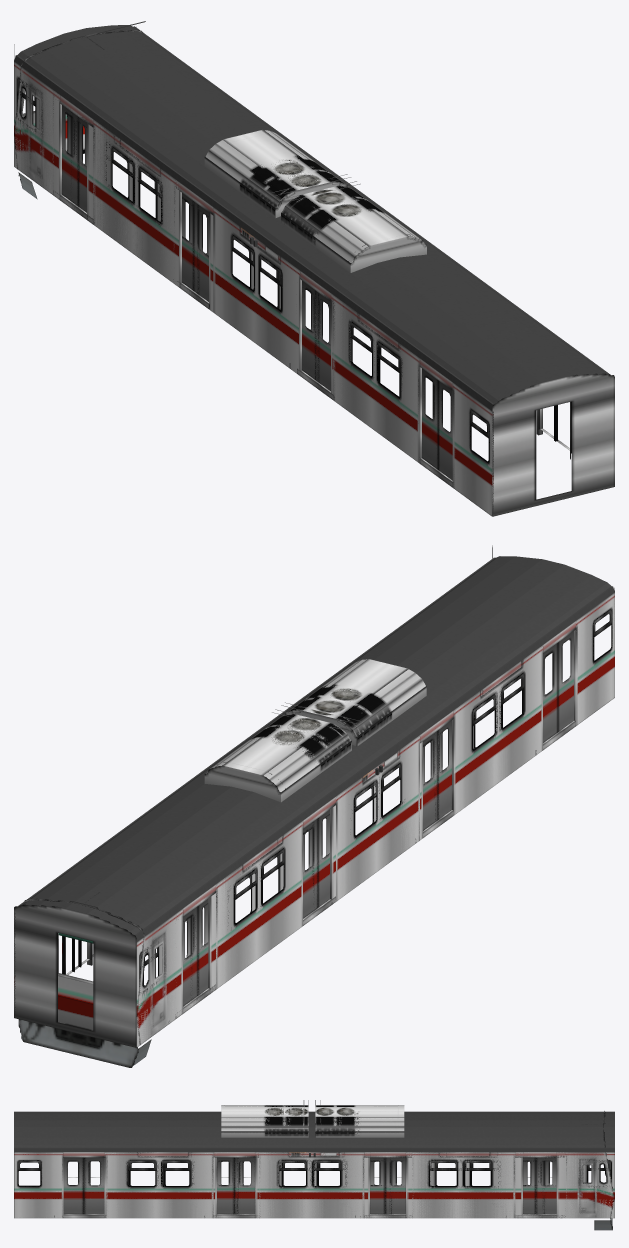
The picture shows the model from 3 angles, top to bottom: view 1: azimuth 30°, elevation 25°; view 2: azimuth 150°, elevation 25°; view 3: azimuth 270°, elevation 25°; orthographic projection. The views are drawn at different scales.
Visible parts, largest first — view 1: cab-shell-0, trailer-shell-5, cab-left-4, trailer-left-8, cab-left-3, trailer-left-9; view 2: cab-shell-0, trailer-shell-5, cab-left-4, cab-left-3, trailer-left-8, trailer-left-9; view 3: cab-shell-0, trailer-shell-5, cab-right-1, cab-right-2, trailer-right-7, trailer-right-6.
Boxes of the visible parts, x1,y1,x2,y2 form: cab-shell-0: (14, 21, 614, 516); trailer-shell-5: (14, 25, 608, 515); cab-left-4: (62, 105, 438, 469); trailer-left-8: (72, 113, 452, 480); cab-left-3: (78, 117, 452, 478); trailer-left-9: (62, 107, 437, 464); cab-shell-0: (18, 545, 614, 1067); trailer-shell-5: (14, 556, 614, 1047); cab-left-4: (183, 643, 557, 1006); cab-left-3: (198, 631, 573, 995); trailer-left-8: (191, 639, 570, 997); trailer-left-9: (183, 648, 553, 1001); cab-shell-0: (14, 1100, 614, 1230); trailer-shell-5: (14, 1100, 614, 1218); cab-right-1: (83, 1157, 556, 1214); cab-right-2: (63, 1157, 535, 1214); trailer-right-7: (63, 1157, 544, 1214); trailer-right-6: (84, 1157, 556, 1214).
Size of the model in its own units: 2.94 by 3.62 by 19.
1 material, 1 textured.
